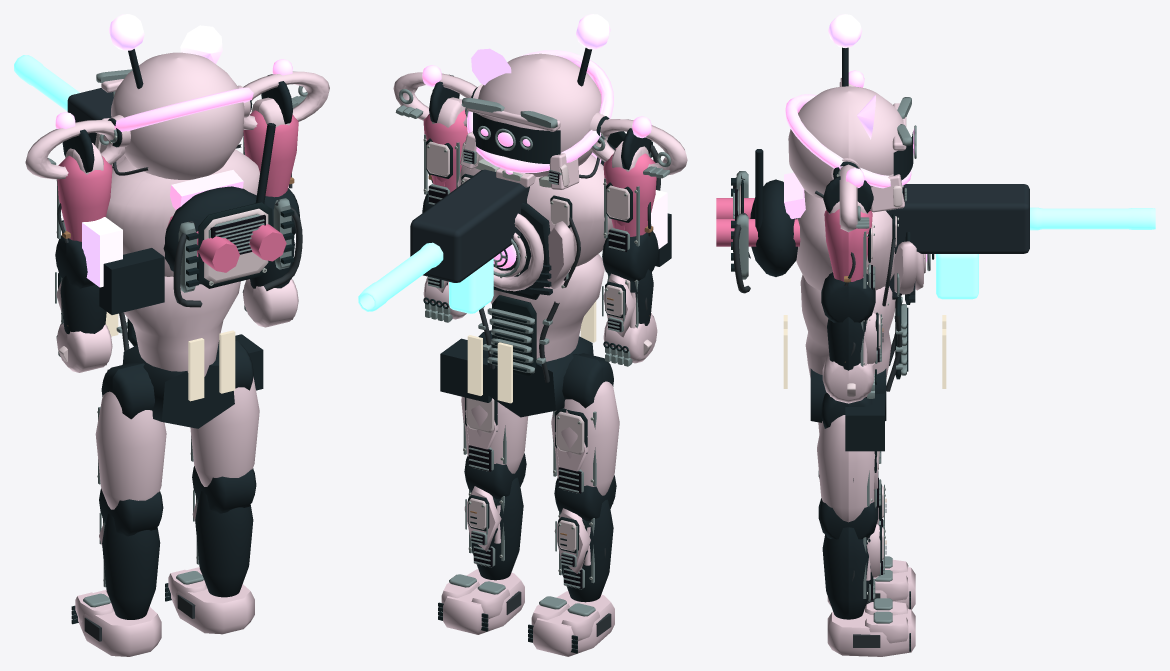
Rendered from kimi.glb.
3 views of the same model, side by side, from view 1: azimuth 30°, elevation 25°; view 2: azimuth 150°, elevation 25°; view 3: azimuth 270°, elevation 25° (orthographic). The views are drawn at different scales.
Visible parts, largest first — view 1: LOD3_Batch8, LOD1_Batch4, LOD3_Batch47, LOD3_Batch55, LOD3_Batch43, LOD3_Batch64, LOD3_Batch60, LOD3_Batch51, LOD3_Batch68, LOD7_Batch39, LOD3_Batch58, LOD3_Batch49 (+33 smaller); view 2: LOD3_Batch8, LOD7_Batch41, LOD3_Batch43, LOD3_Batch47, LOD3_Batch55, LOD7_Batch42, LOD1_Batch48, LOD3_Batch58, LOD3_Batch49, LOD3_Batch68, LOD3_Batch10, LOD3_Batch64 (+43 smaller); view 3: LOD7_Batch41, LOD3_Batch8, LOD3_Batch43, LOD7_Batch42, LOD3_Batch64, LOD3_Batch60, LOD3_Batch58, LOD3_Batch47, LOD3_Batch3, LOD3_Batch31, LOD3_Batch33, LOD7_Batch67 (+20 smaller).
Part boxes in pixels (bbox=[...]): LOD3_Batch8: bbox=[100, 52, 250, 179]; LOD1_Batch4: bbox=[173, 198, 302, 307]; LOD3_Batch47: bbox=[123, 276, 240, 376]; LOD3_Batch55: bbox=[95, 391, 166, 509]; LOD3_Batch43: bbox=[106, 149, 259, 276]; LOD3_Batch64: bbox=[190, 377, 259, 486]; LOD3_Batch60: bbox=[195, 491, 253, 597]; LOD3_Batch51: bbox=[102, 514, 160, 619]; LOD3_Batch68: bbox=[122, 345, 234, 428]; LOD7_Batch39: bbox=[99, 248, 164, 314]; LOD3_Batch58: bbox=[168, 567, 254, 634]; LOD3_Batch49: bbox=[75, 590, 161, 656]; LOD3_Batch8: bbox=[460, 53, 604, 189]; LOD7_Batch41: bbox=[410, 169, 529, 282]; LOD3_Batch43: bbox=[457, 154, 613, 291]; LOD3_Batch47: bbox=[490, 254, 604, 361]; LOD3_Batch55: bbox=[551, 381, 619, 495]; LOD7_Batch42: bbox=[358, 242, 493, 313]; LOD1_Batch48: bbox=[478, 295, 559, 382]; LOD3_Batch58: bbox=[441, 569, 524, 634]; LOD3_Batch49: bbox=[531, 591, 614, 656]; LOD3_Batch68: bbox=[485, 336, 593, 417]; LOD3_Batch10: bbox=[467, 50, 613, 173]; LOD3_Batch64: bbox=[461, 396, 528, 473]; LOD7_Batch41: bbox=[886, 184, 1029, 299]; LOD3_Batch8: bbox=[788, 86, 904, 212]; LOD3_Batch43: bbox=[796, 190, 925, 294]; LOD7_Batch42: bbox=[936, 207, 1155, 299]; LOD3_Batch64: bbox=[817, 415, 879, 522]; LOD3_Batch60: bbox=[822, 527, 873, 619]; LOD3_Batch58: bbox=[827, 601, 915, 656]; LOD3_Batch47: bbox=[800, 274, 895, 378]; LOD3_Batch3: bbox=[750, 179, 797, 276]; LOD3_Batch31: bbox=[822, 312, 876, 403]; LOD3_Batch33: bbox=[824, 209, 872, 281]; LOD7_Batch67: bbox=[845, 393, 884, 451].
Bounding box in the file's own units: 0.9811 × 1.96 × 1.33.
